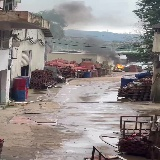fire: (117, 64, 124, 68)
